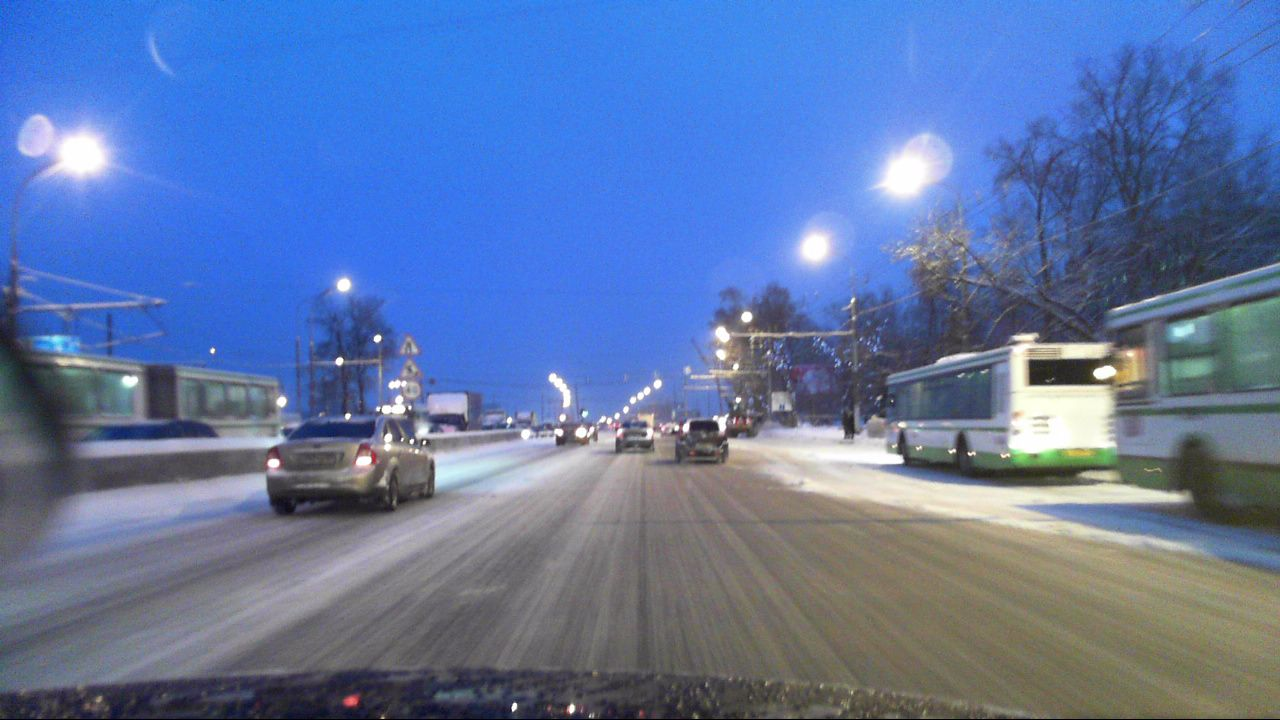speed_warning_40: (399, 379, 423, 400)
